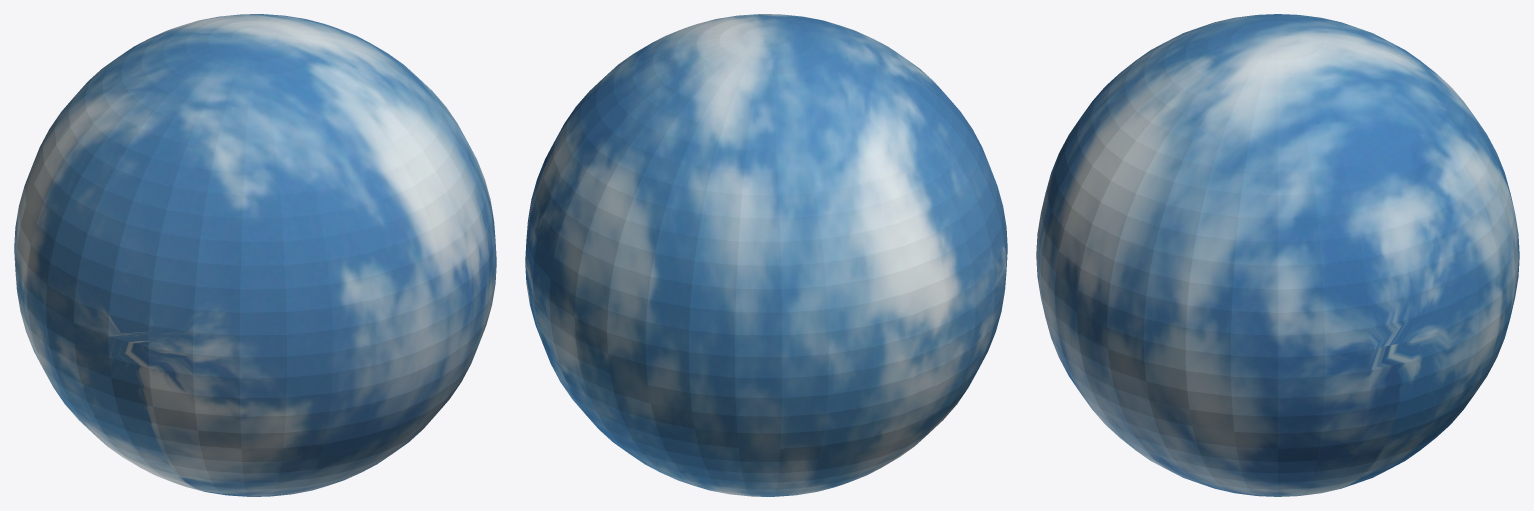
File: ceu.obj
The picture shows the model from 3 angles, left to right: view 1: azimuth 30°, elevation 25°; view 2: azimuth 150°, elevation 25°; view 3: azimuth 270°, elevation 25°; orthographic projection.
Size of the model in its own units: 2 by 2 by 2.
